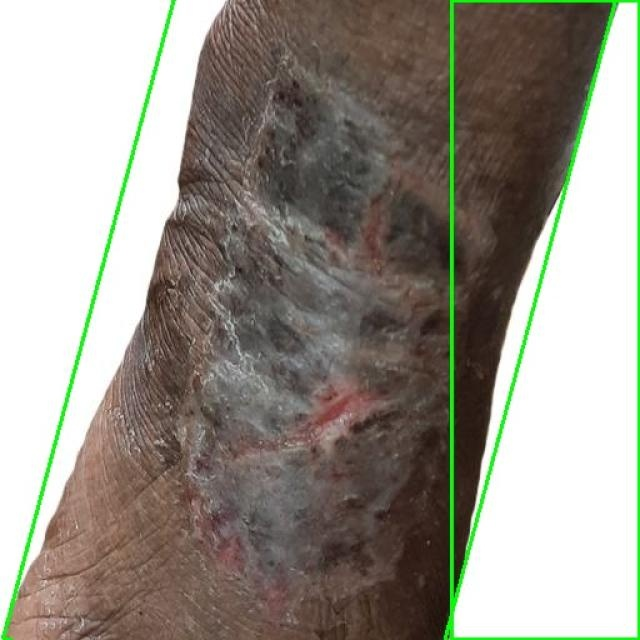Eczema: (3, 0, 617, 640), (451, 0, 639, 639)
